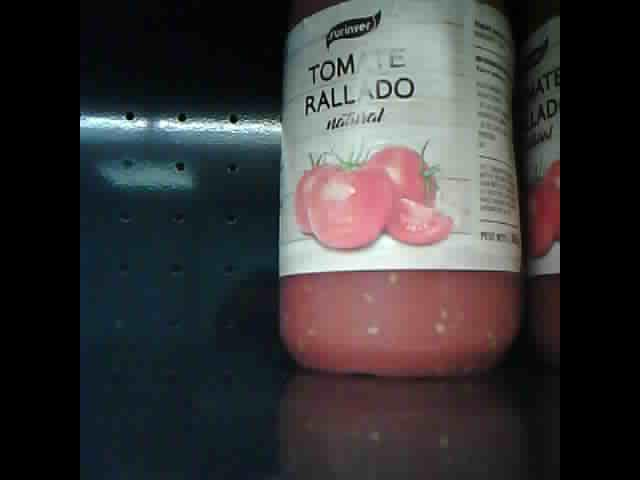tomate: (280, 2, 521, 375), (528, 6, 560, 372)
